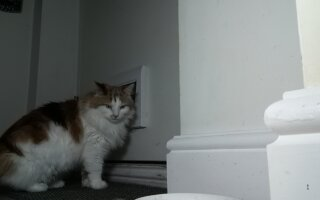clara: (8, 82, 146, 200)
